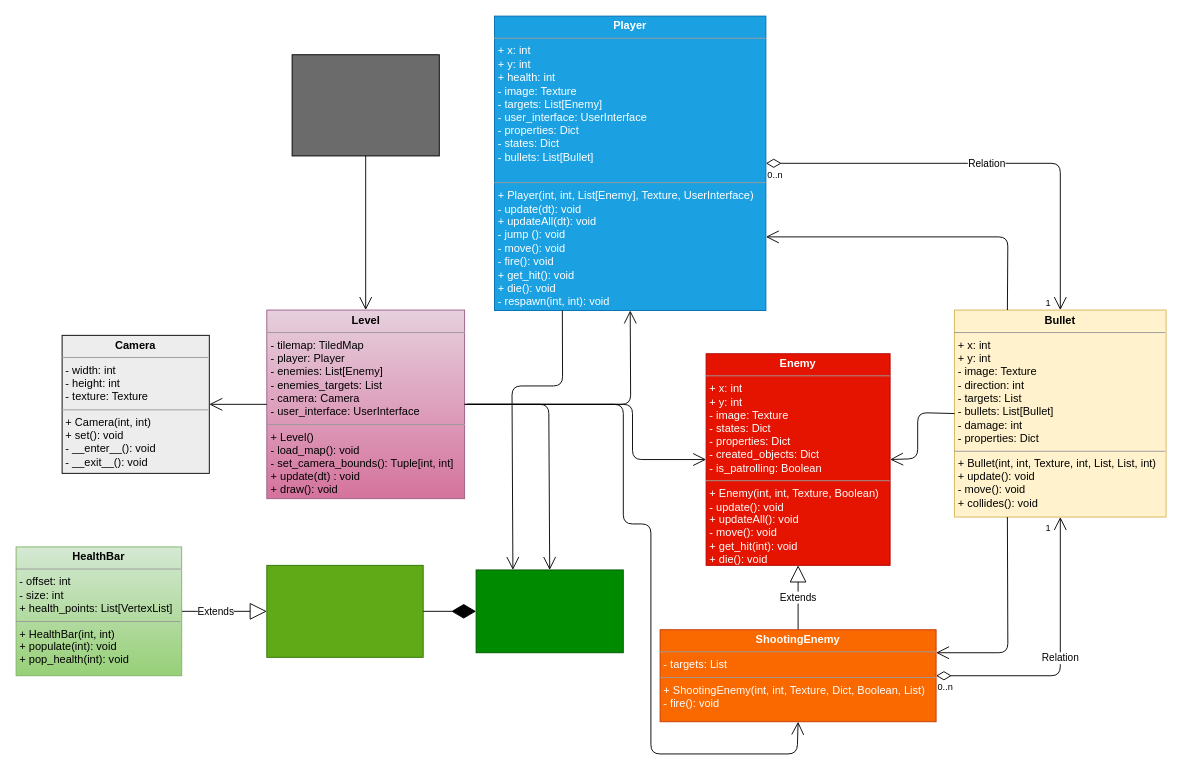
Image size: 1182x783. Some labels were removed from this diagram. The centre of each missing label's shape, as x and y in pixels:
"Game - level: Level + Game() + update(): void + on_draw(): void" goes at point 365,105.
"InterfaceComponent - x: int - y: int + InterfaceComponent(int, int)" goes at point 344,610.
"UserInterface + health_bar: HealthBar + UserInterface()" goes at point 549,611.
